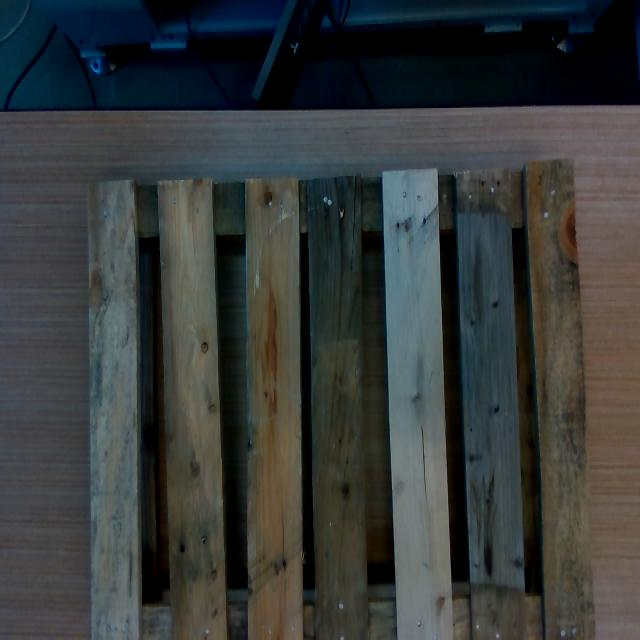pallet: (89, 161, 595, 640)
